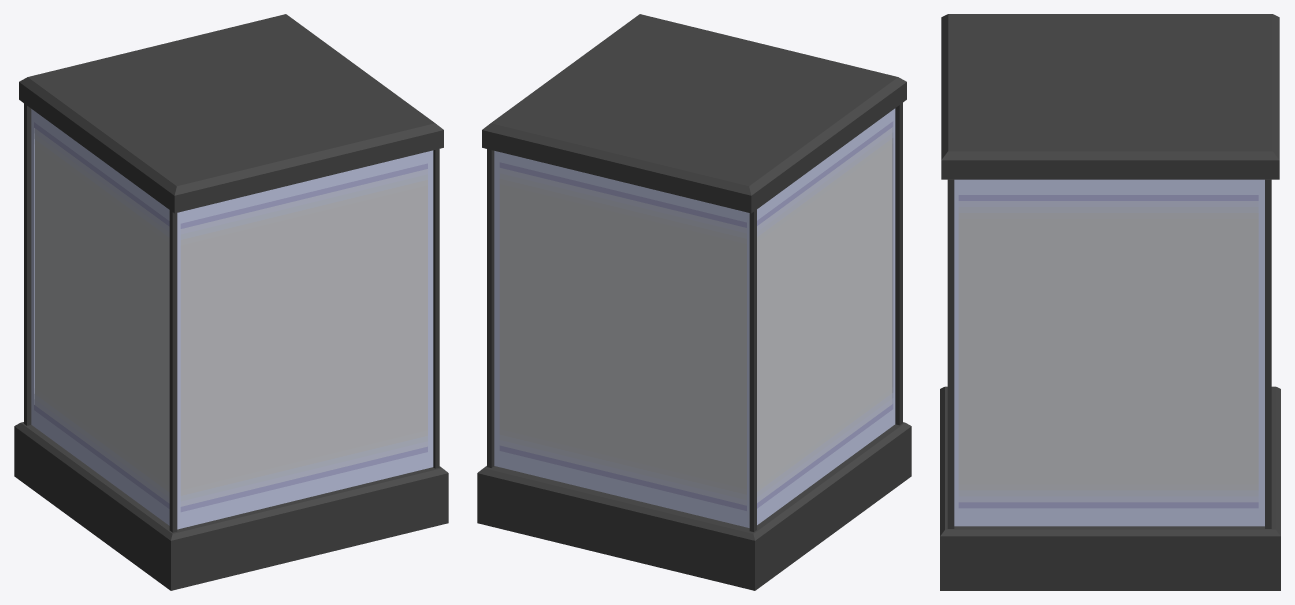
Rendered from jar.glb.
3 renders of one model, left to right at view 1: azimuth 30°, elevation 25°; view 2: azimuth 150°, elevation 25°; view 3: azimuth 270°, elevation 25°, orthographic. The views are drawn at different scales.
Visible parts, largest first — view 1: WindowMesh, WaterMesh, Roof, BottomPlate, WireFrame, WireFrame.001, WireFrame.003; view 2: WindowMesh, WaterMesh, Roof, BottomPlate, WireFrame.001, WireFrame, WireFrame.002; view 3: WindowMesh, WaterMesh, Roof, BottomPlate, WireFrame.003, WireFrame.002.
Part boxes in pixels (x1=…): WindowMesh: x1=31, y1=109, x2=433, y2=529; WaterMesh: x1=35, y1=129, x2=427, y2=502; Roof: x1=19, y1=14, x2=443, y2=213; BottomPlate: x1=14, y1=422, x2=448, y2=590; WireFrame: x1=169, y1=210, x2=177, y2=532; WireFrame.001: x1=24, y1=103, x2=31, y2=425; WireFrame.003: x1=433, y1=149, x2=439, y2=468; WindowMesh: x1=494, y1=108, x2=895, y2=527; WaterMesh: x1=499, y1=128, x2=892, y2=502; Roof: x1=482, y1=14, x2=906, y2=213; BottomPlate: x1=477, y1=422, x2=911, y2=590; WireFrame.001: x1=749, y1=209, x2=756, y2=531; WireFrame: x1=895, y1=103, x2=902, y2=425; WireFrame.002: x1=487, y1=149, x2=494, y2=467; WindowMesh: x1=954, y1=179, x2=1264, y2=526; WaterMesh: x1=958, y1=207, x2=1258, y2=496; Roof: x1=941, y1=14, x2=1279, y2=179; BottomPlate: x1=940, y1=386, x2=1280, y2=590; WireFrame.003: x1=947, y1=179, x2=954, y2=528; WireFrame.002: x1=1265, y1=179, x2=1271, y2=528.
Bounding box in the file's own units: 1.24 × 1.7 × 1.21.
3 materials, 1 textured.
